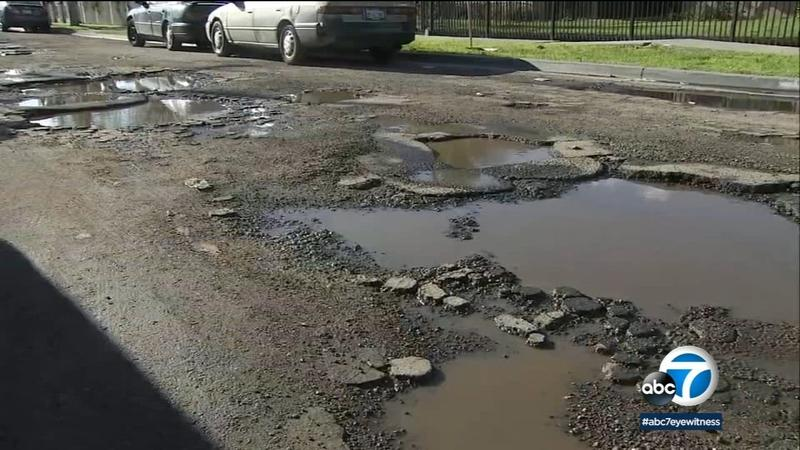Pothole: (238, 111, 795, 445), (0, 77, 275, 153)
